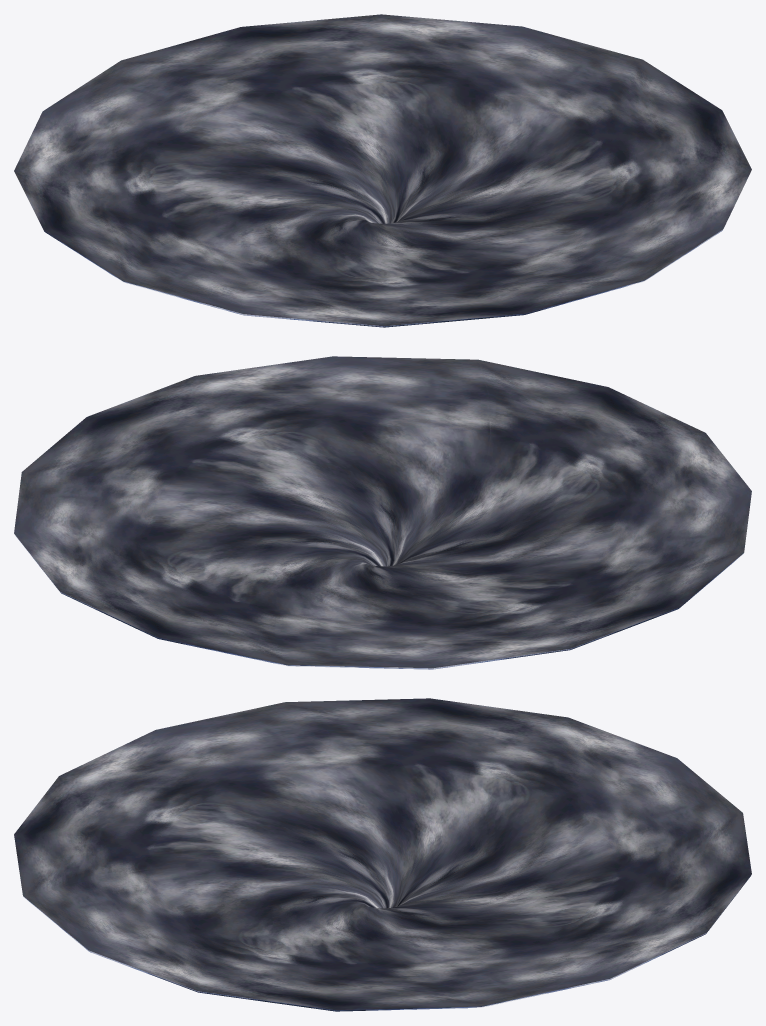
File: RM_WHIRLPOOL.obj
3 renders of one model, top to bottom at view 1: azimuth 30°, elevation 25°; view 2: azimuth 150°, elevation 25°; view 3: azimuth 270°, elevation 25°, orthographic.
Visible parts, largest first — view 1: Rm_whirlpool; view 2: Rm_whirlpool; view 3: Rm_whirlpool.
Part boxes in pixels (box(x1,y1,x2,y2)): Rm_whirlpool: box(14, 14, 751, 327); Rm_whirlpool: box(14, 356, 751, 669); Rm_whirlpool: box(14, 698, 751, 1011).
Bounding box in the file's own units: 4116 × 462 × 4116.
